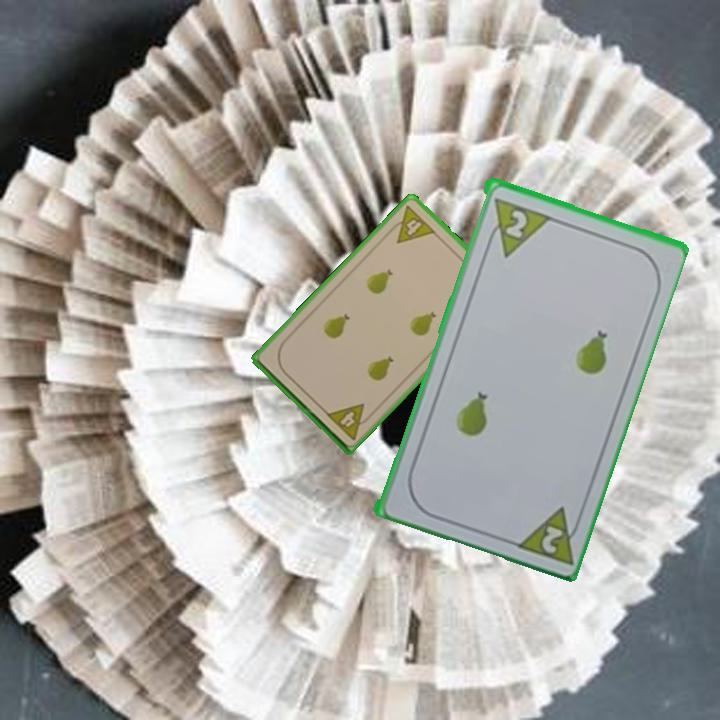2p: (509, 502, 586, 567), (501, 206, 530, 241)
4p: (384, 202, 438, 246), (322, 399, 376, 443)
